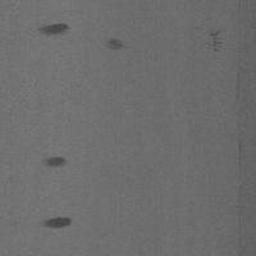Oil spot: (193, 26, 225, 54), (37, 22, 70, 38), (38, 215, 73, 230), (40, 155, 68, 168), (105, 37, 124, 52)
